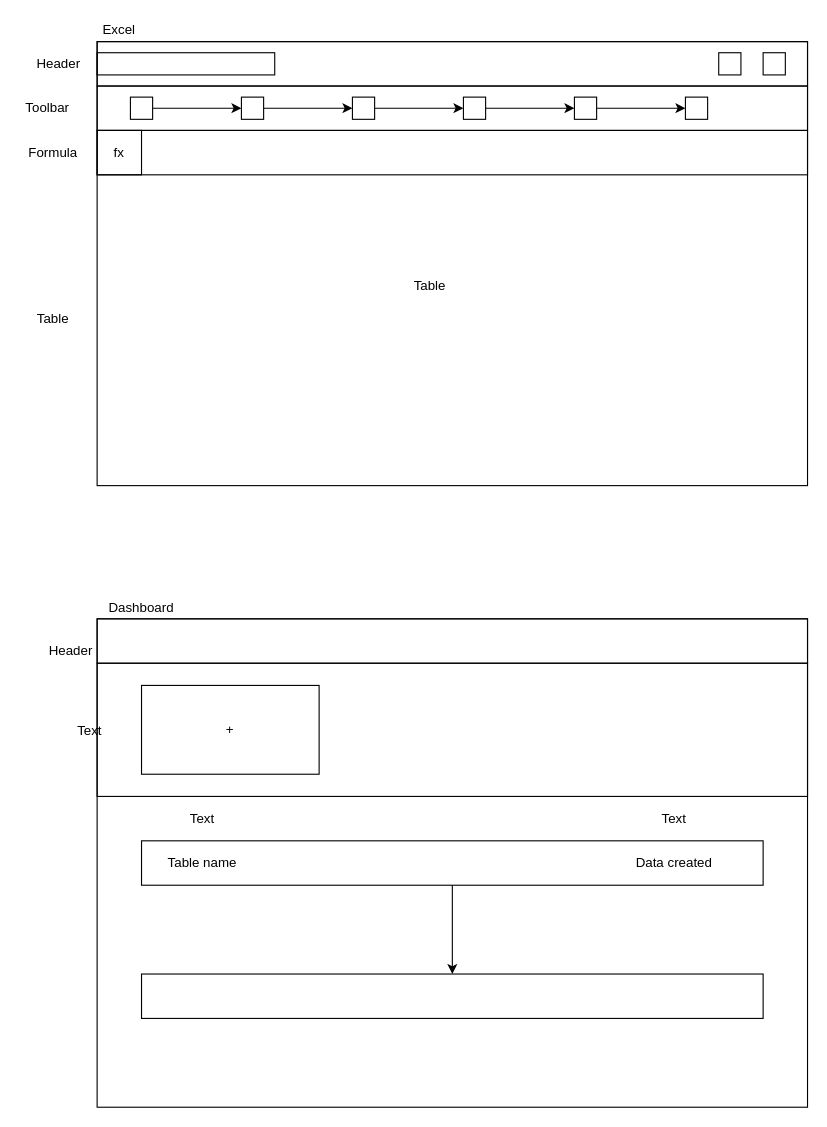
This 827x1127 diagram has some shape labels left out. The box of each missing label's shape, as (x1, y1, x2, y2) in pixels:
Excel dashboard: (96, 618, 808, 663)
Name: (96, 52, 275, 75)
